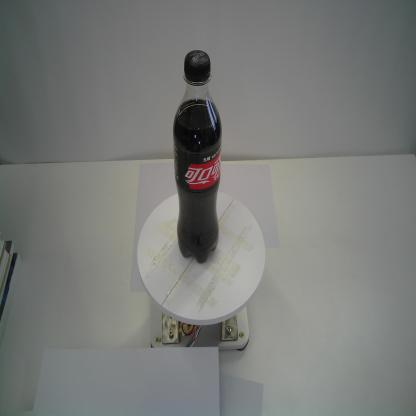Drink: (171, 48, 223, 265)
